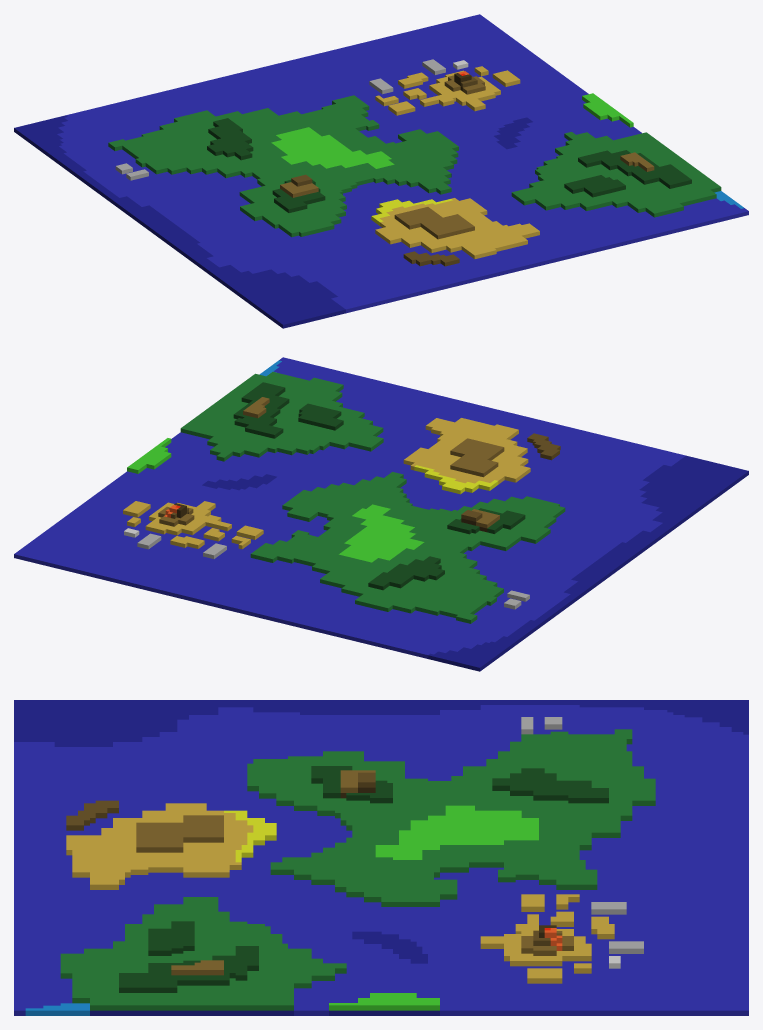
Rendered from LeftWorld.obj.
The picture shows the model from 3 angles, top to bottom: view 1: azimuth 30°, elevation 25°; view 2: azimuth 150°, elevation 25°; view 3: azimuth 270°, elevation 25°; orthographic projection. The views are drawn at different scales.
Bounding box in the file's own units: 126 × 5 × 126.
Materials: 1 (1 with a texture image).
